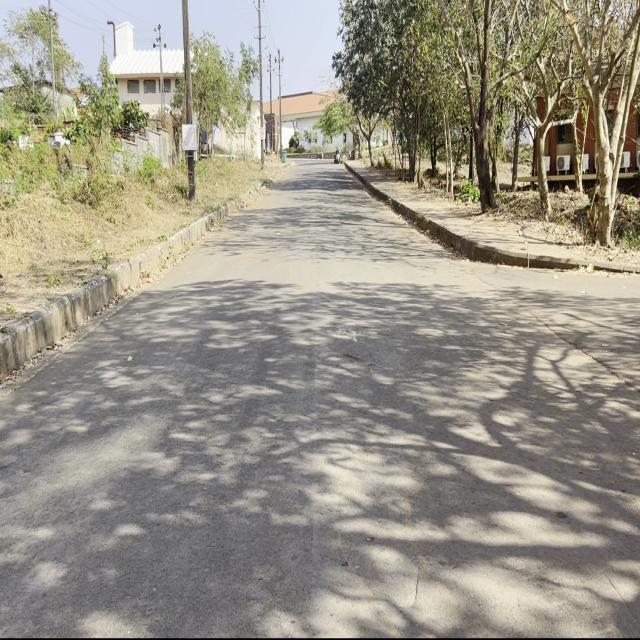Road: (5, 163, 637, 627)
